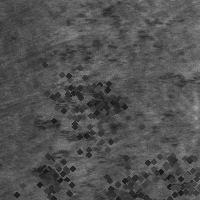rolled-in_scale: (39, 60, 151, 172), (32, 73, 140, 180), (22, 47, 114, 139), (146, 56, 197, 189), (46, 3, 152, 64), (134, 130, 200, 200), (84, 153, 166, 200), (21, 149, 77, 200), (78, 77, 126, 125)
